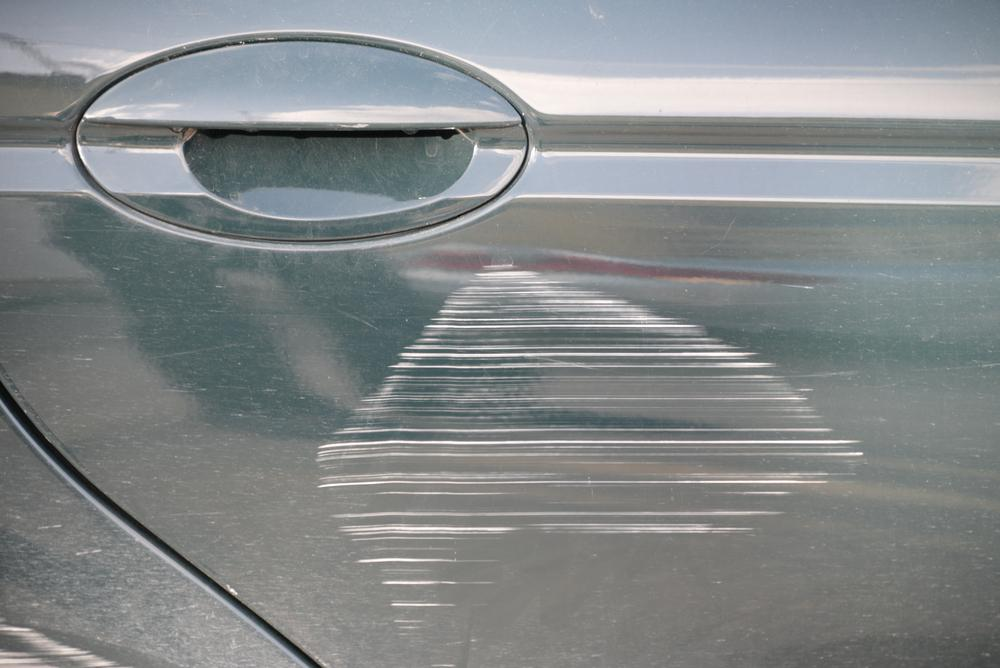scratch: (310, 256, 870, 652), (0, 619, 140, 668)
